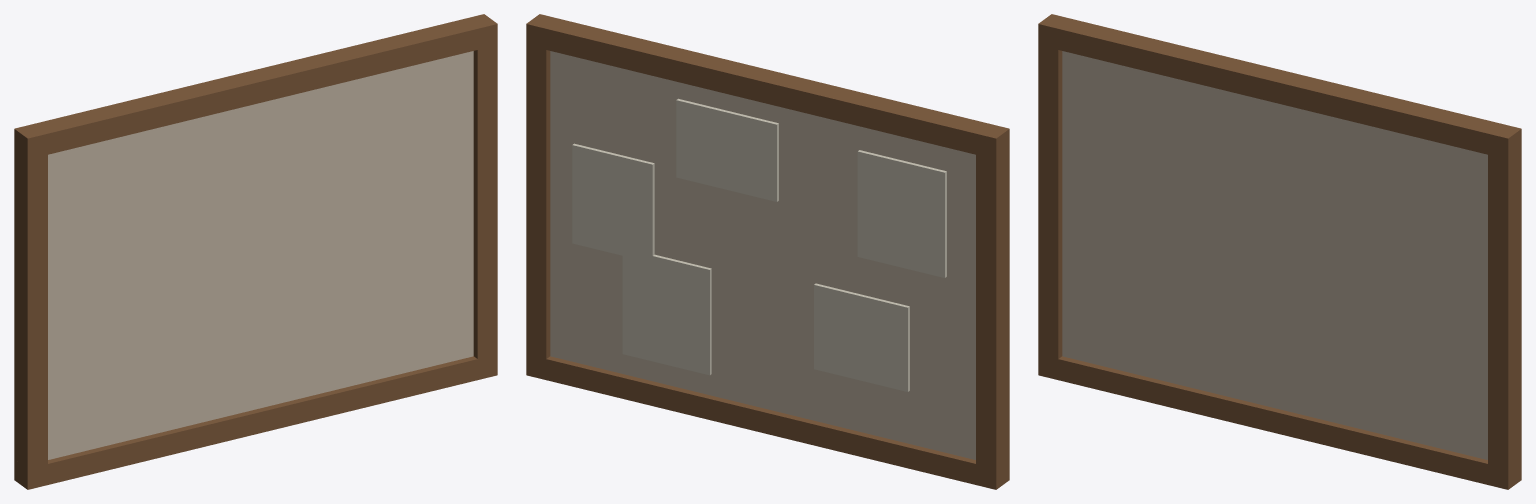
Rendered from SM_K_NoticeBoard.obj.
3 views of the same model, side by side, from view 1: azimuth 30°, elevation 25°; view 2: azimuth 150°, elevation 25°; view 3: azimuth 330°, elevation 25° (orthographic).
Parts seen in each view (by area): view 1: SM_K_NoticeBoard; view 2: SM_K_NoticeBoard; view 3: SM_K_NoticeBoard.
Part boxes in pixels (x1,y1,x2,y2): SM_K_NoticeBoard: (14, 14, 497, 489); SM_K_NoticeBoard: (526, 14, 1009, 489); SM_K_NoticeBoard: (1038, 14, 1521, 489).
Bounding box in the file's own units: 1.4 × 1 × 0.075.
